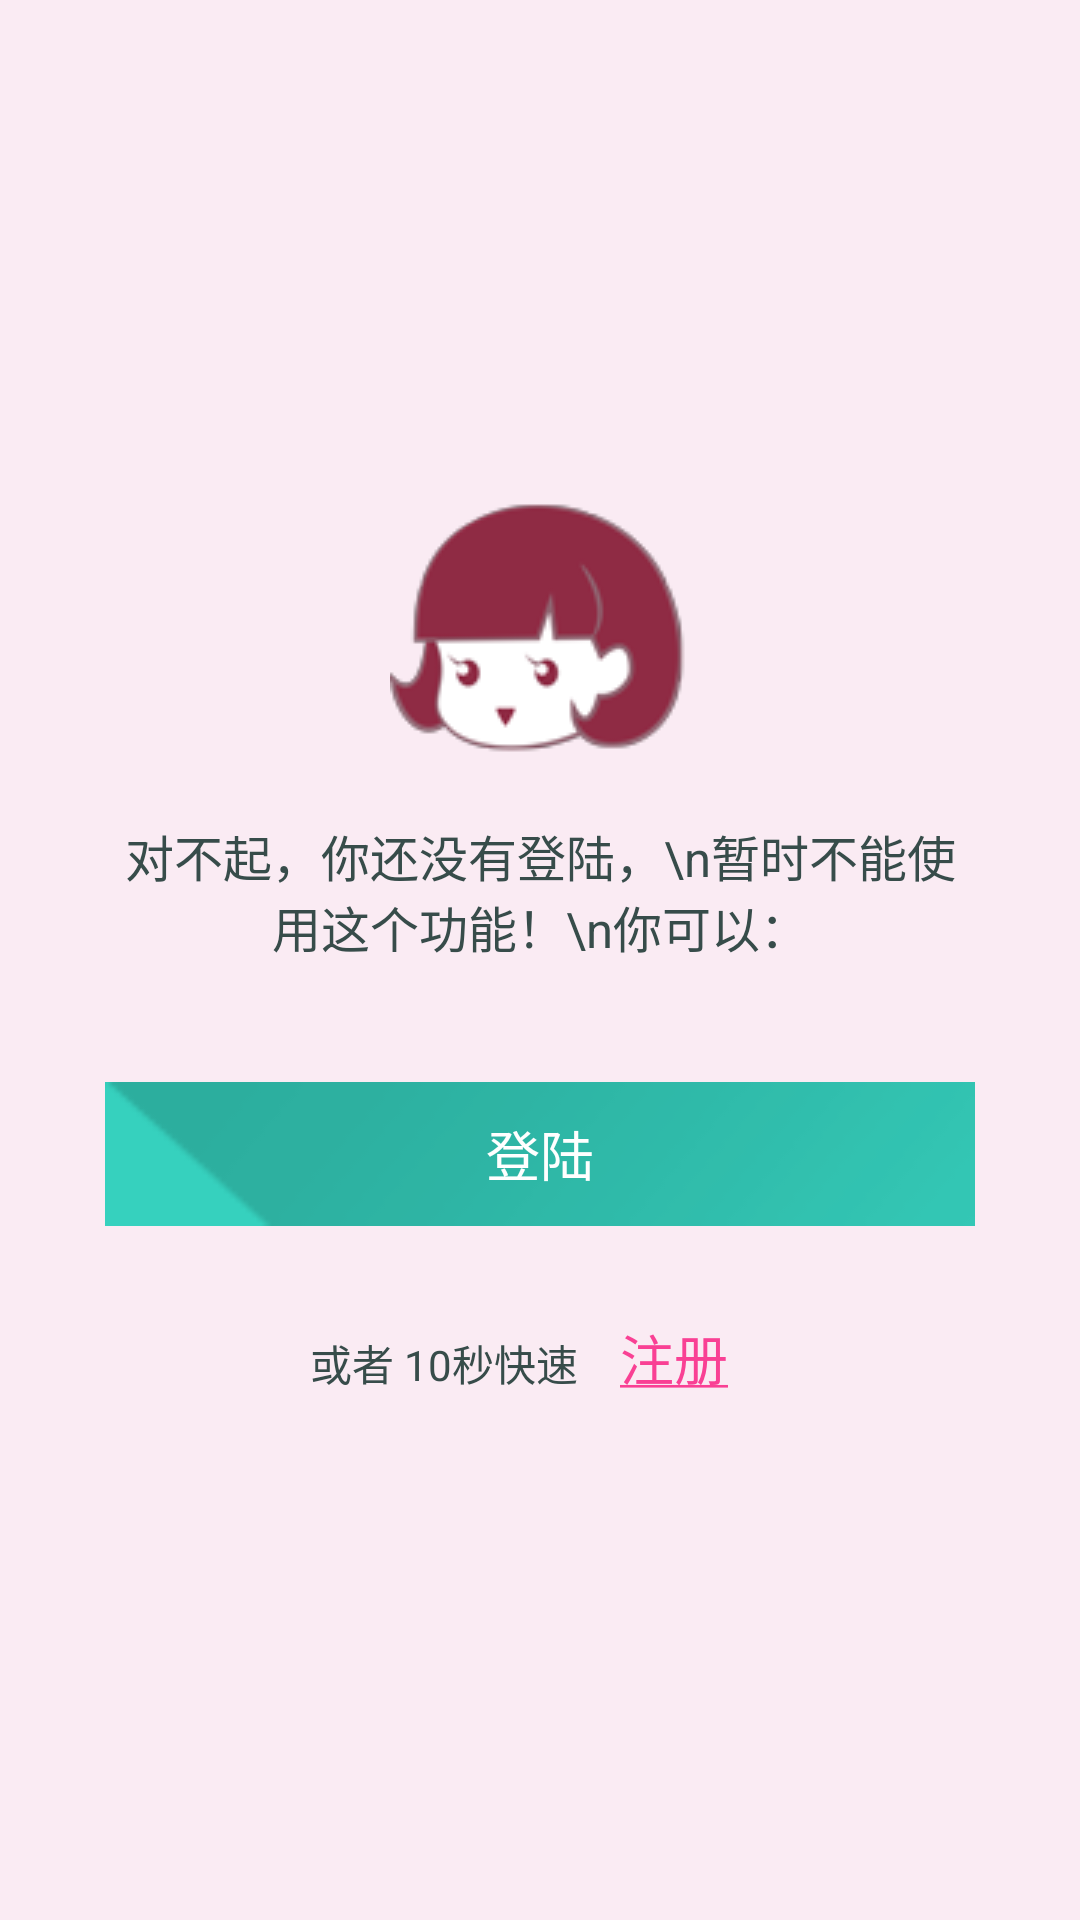

Screen size 1080w x 1920h. Icon name, then its center in pixels as (x,y):
guimi: (537,627)
